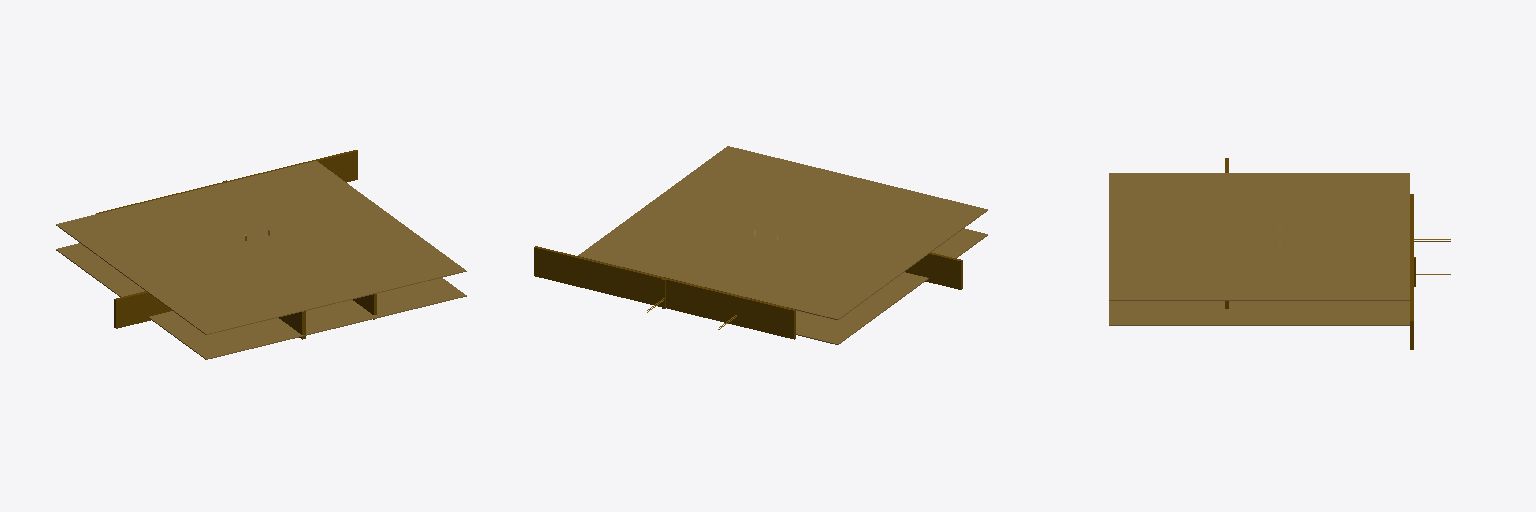
The model's file is target-range-2017-05-18-14-24-27.obj.
3 renders of one model, left to right at view 1: azimuth 30°, elevation 25°; view 2: azimuth 150°, elevation 25°; view 3: azimuth 270°, elevation 25°, orthographic.
Visible parts, largest first — view 1: MergableThingPart_0; view 2: MergableThingPart_0; view 3: MergableThingPart_0.
Boxes of the visible parts, x1=… form: MergableThingPart_0: x1=56, y1=150, x2=466, y2=359; MergableThingPart_0: x1=534, y1=146, x2=987, y2=344; MergableThingPart_0: x1=1109, y1=158, x2=1450, y2=349.
Bounding box in the file's own units: 64.19 × 8.14 × 56.71.